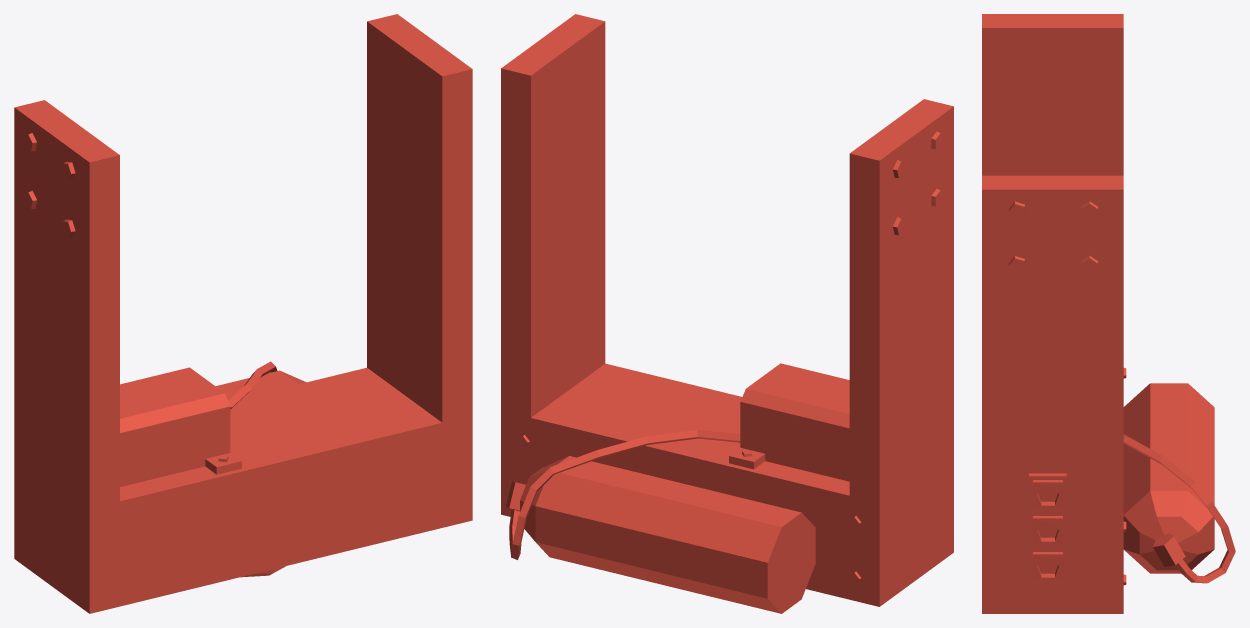
File: SM_Wind_Machine_Base.fbx
3 renders of one model, left to right at view 1: azimuth 30°, elevation 25°; view 2: azimuth 150°, elevation 25°; view 3: azimuth 270°, elevation 25°, orthographic. The views are drawn at different scales.
Parts seen in each view (by area): view 1: SM_Wind_Machine_Base; view 2: SM_Wind_Machine_Base; view 3: SM_Wind_Machine_Base.
Part boxes in pixels (x1=…): SM_Wind_Machine_Base: x1=14, y1=14, x2=472, y2=613; SM_Wind_Machine_Base: x1=501, y1=14, x2=953, y2=613; SM_Wind_Machine_Base: x1=982, y1=14, x2=1235, y2=613.
Size of the model in its own units: 36.28 by 61.88 by 69.53.
